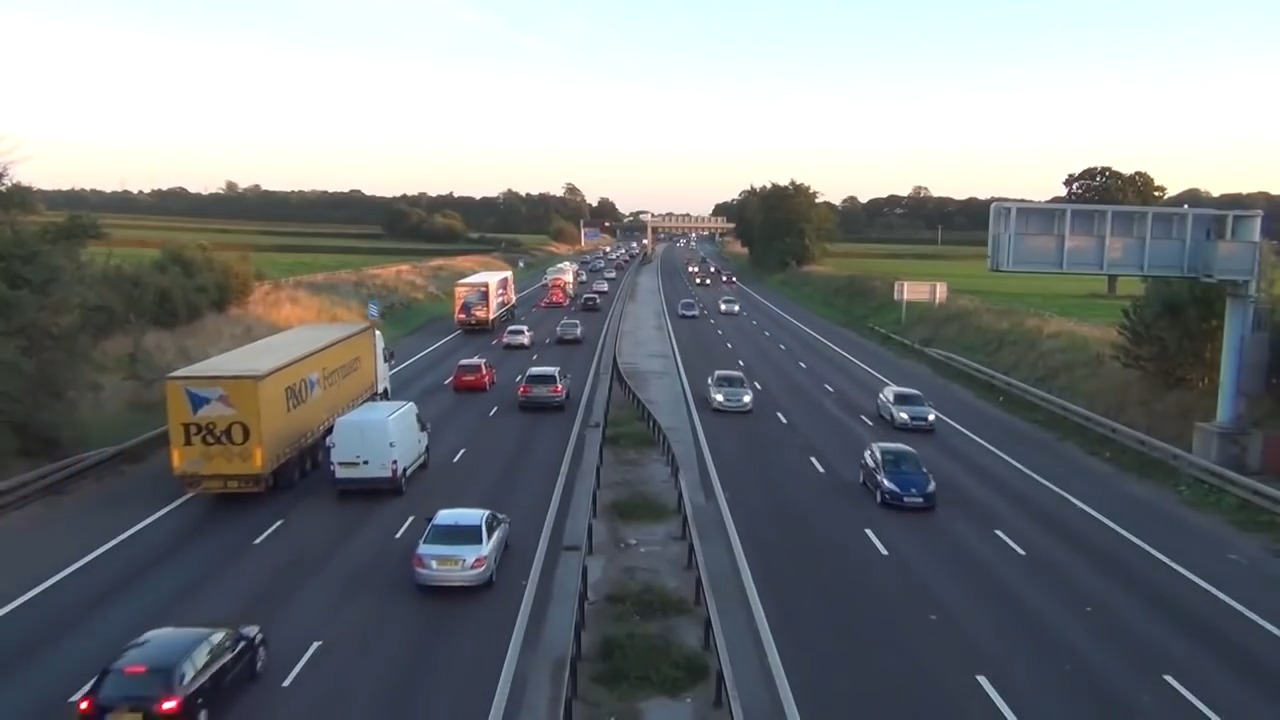truck: (160, 319, 390, 496)
